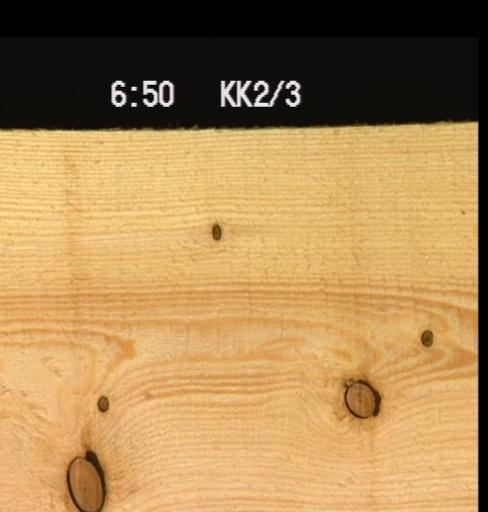dry_knot: (95, 391, 109, 413), (419, 326, 432, 347), (210, 221, 222, 241)
